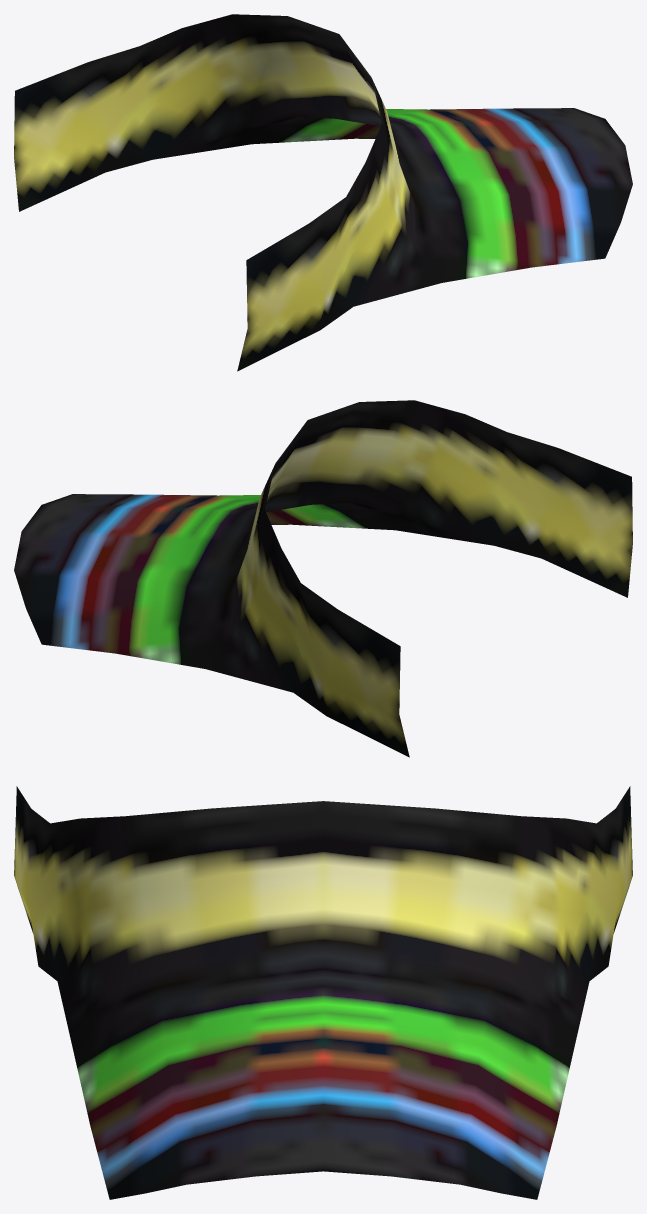
Rendered from hat_0400052.FBX.
The picture shows the model from 3 angles, top to bottom: view 1: azimuth 30°, elevation 25°; view 2: azimuth 150°, elevation 25°; view 3: azimuth 270°, elevation 25°; orthographic projection. The views are drawn at different scales.
Parts seen in each view (by area): view 1: hat_0400052; view 2: hat_0400052; view 3: hat_0400052.
Part boxes in pixels (x1,y1,x2,y2): hat_0400052: [14, 14, 632, 371]; hat_0400052: [14, 400, 632, 757]; hat_0400052: [14, 786, 632, 1199].
Size of the model in its own units: 26.36 by 11.12 by 22.34.
